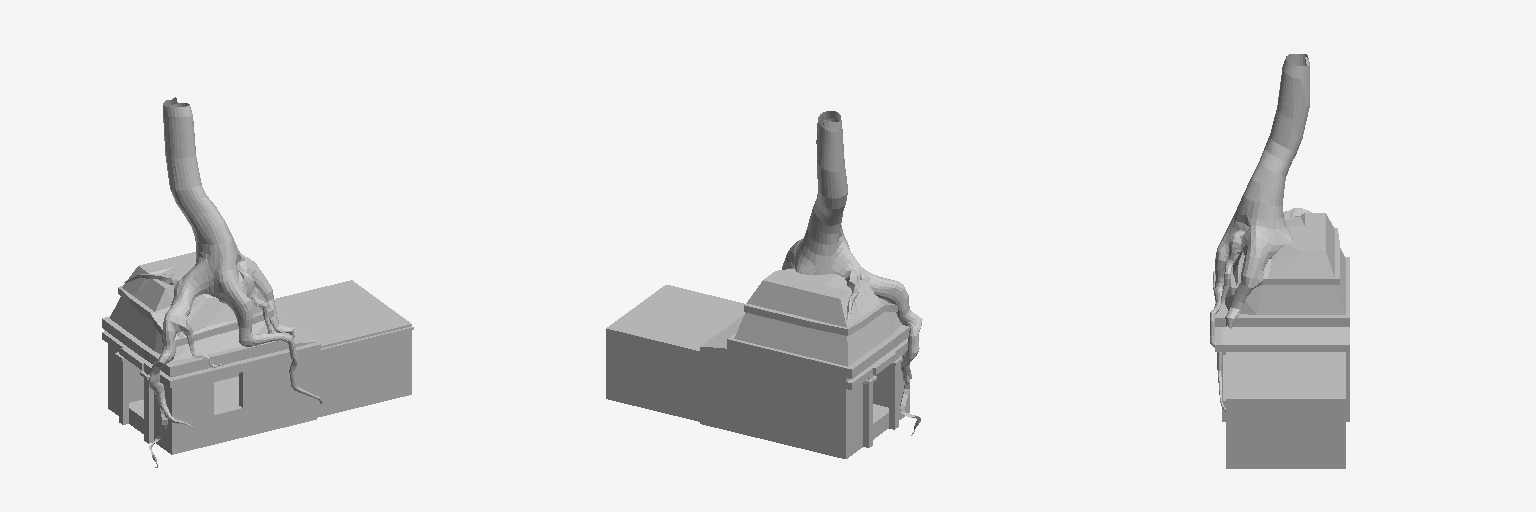
File: TempleEntrance_tree.obj
3 renders of one model, left to right at view 1: azimuth 30°, elevation 25°; view 2: azimuth 150°, elevation 25°; view 3: azimuth 270°, elevation 25°, orthographic.
Parts seen in each view (by area): view 1: polySurface10 TempleEntrance:TempleEntrance:pCube15, TempleEntranceTree1:TempleEntranceTree; view 2: polySurface10 TempleEntrance:TempleEntrance:pCube15, TempleEntranceTree1:TempleEntranceTree; view 3: polySurface10 TempleEntrance:TempleEntrance:pCube15, TempleEntranceTree1:TempleEntranceTree.
Part boxes in pixels (x1,y1,x2,y2): polySurface10 TempleEntrance:TempleEntrance:pCube15: (102,252,413,454); TempleEntranceTree1:TempleEntranceTree: (124,97,322,467); polySurface10 TempleEntrance:TempleEntrance:pCube15: (606,268,918,458); TempleEntranceTree1:TempleEntranceTree: (782,111,922,435); polySurface10 TempleEntrance:TempleEntrance:pCube15: (1215,213,1349,468); TempleEntranceTree1:TempleEntranceTree: (1210,54,1334,411).
Size of the model in its own units: 31.35 by 38.58 by 14.77.